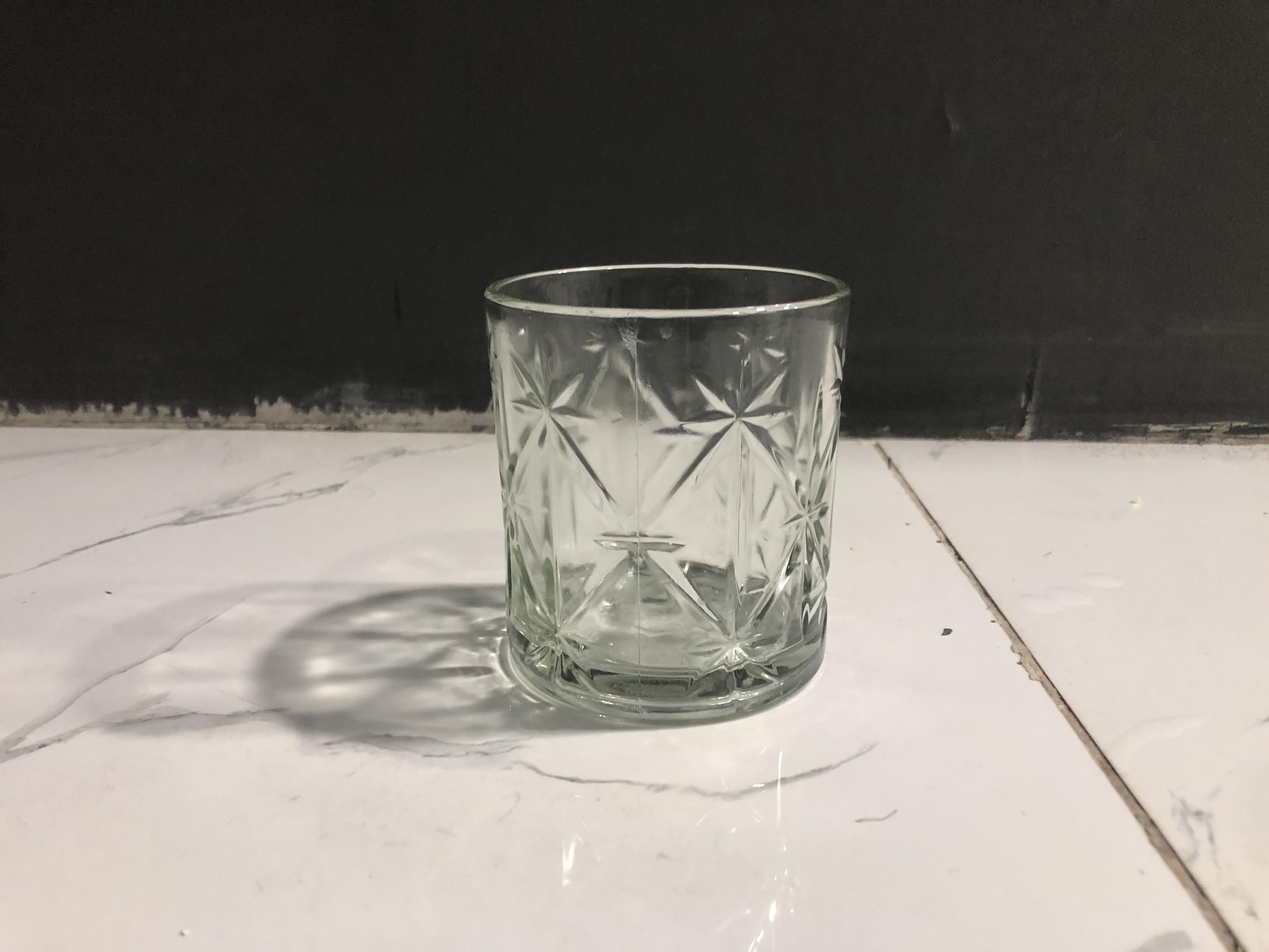glass-normal: (485, 258, 848, 733)
